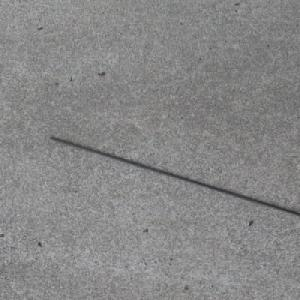LuggagePart: (48, 136, 300, 217)
